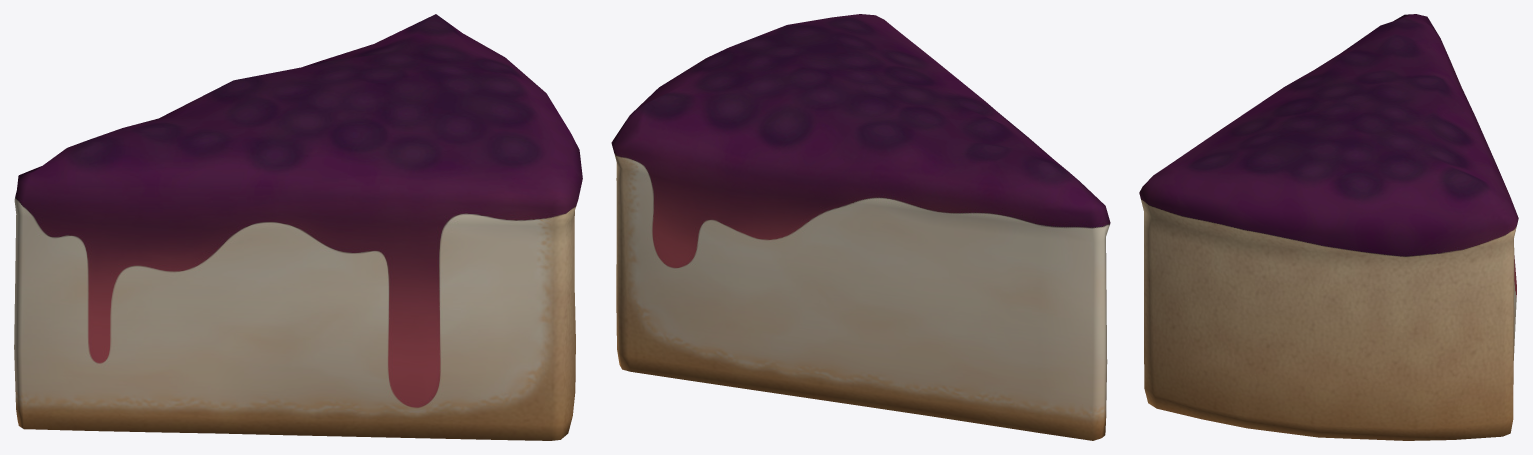
Rendered from Blueberry Cheesecake 2.fbx.
The picture shows the model from 3 angles, left to right: view 1: azimuth 30°, elevation 25°; view 2: azimuth 150°, elevation 25°; view 3: azimuth 270°, elevation 25°; orthographic projection. The views are drawn at different scales.
Parts seen in each view (by area): view 1: BlueberryCheesecak_1; view 2: BlueberryCheesecak_1; view 3: BlueberryCheesecak_1.
Part boxes in pixels (bbox=[...]): BlueberryCheesecak_1: bbox=[14, 14, 582, 440]; BlueberryCheesecak_1: bbox=[611, 14, 1110, 440]; BlueberryCheesecak_1: bbox=[1139, 14, 1518, 440].
Bounding box in the file's own units: 59.21 × 33 × 44.
Materials: 1 (1 with a texture image).
